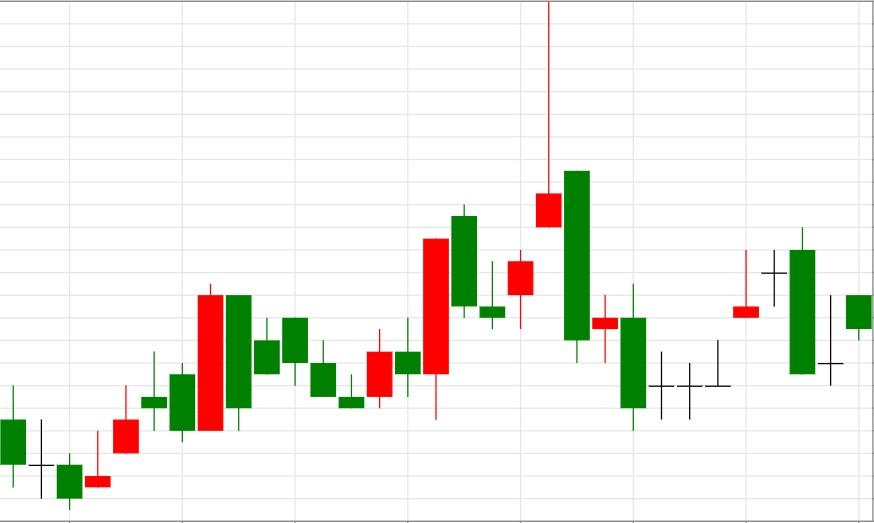shooting_star_fall: (478, 0, 563, 329)
three_black_crows_fall: (56, 283, 365, 511)
